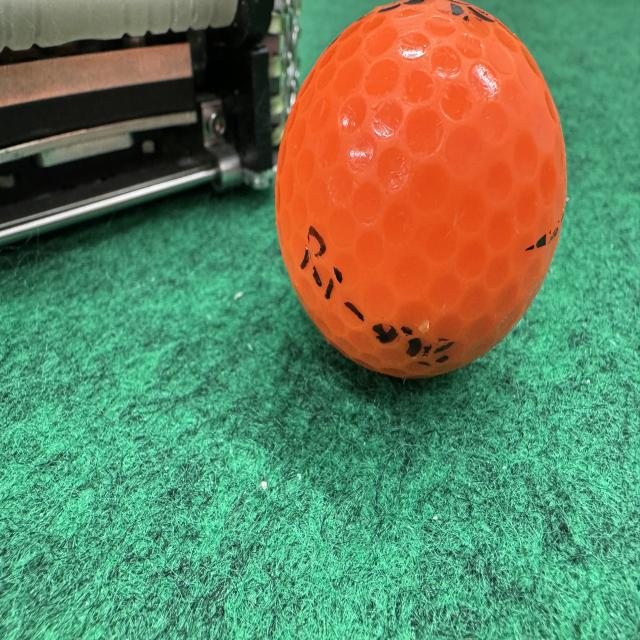ball: (274, 0, 572, 389)
